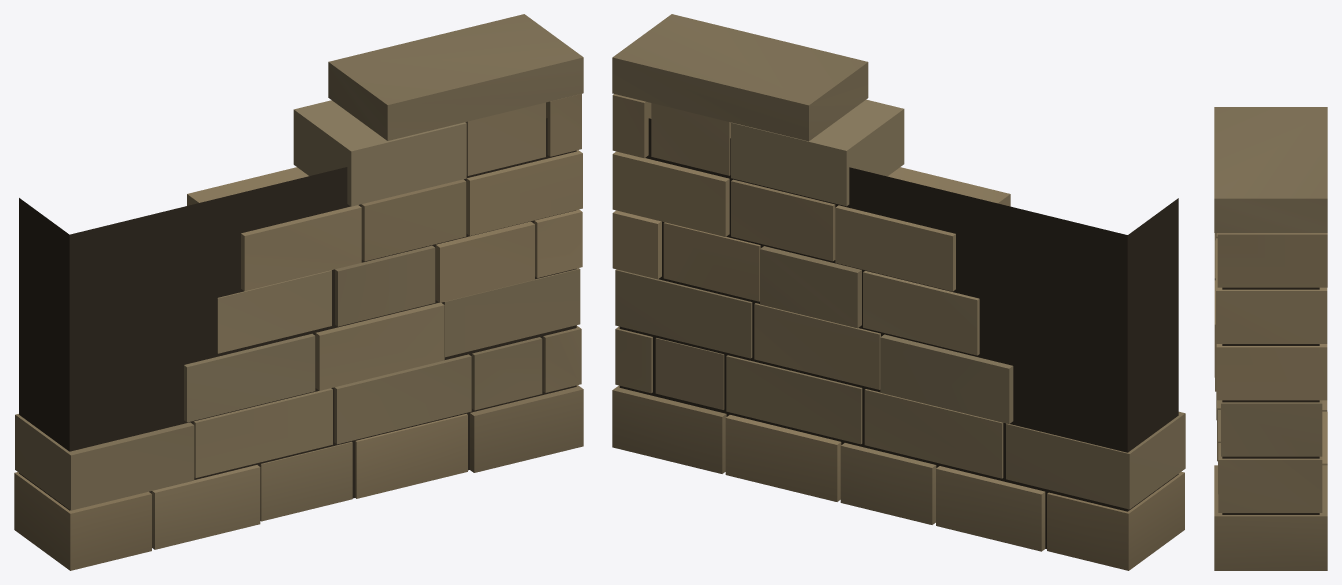
File: wall.stone_broken.sandstone.glb
3 views of the same model, side by side, from view 1: azimuth 30°, elevation 25°; view 2: azimuth 150°, elevation 25°; view 3: azimuth 270°, elevation 25° (orthographic). The views are drawn at different scales.
Visible parts, largest first — view 1: wall_stone_broken_sandstone; view 2: wall_stone_broken_sandstone; view 3: wall_stone_broken_sandstone.
Part boxes in pixels (box(x1,y1,x2,y2)): wall_stone_broken_sandstone: box(14, 14, 583, 570); wall_stone_broken_sandstone: box(612, 14, 1185, 570); wall_stone_broken_sandstone: box(1214, 107, 1327, 570).
Size of what is drawn, in the model's own units: 1.79 by 1.3 by 0.359.
